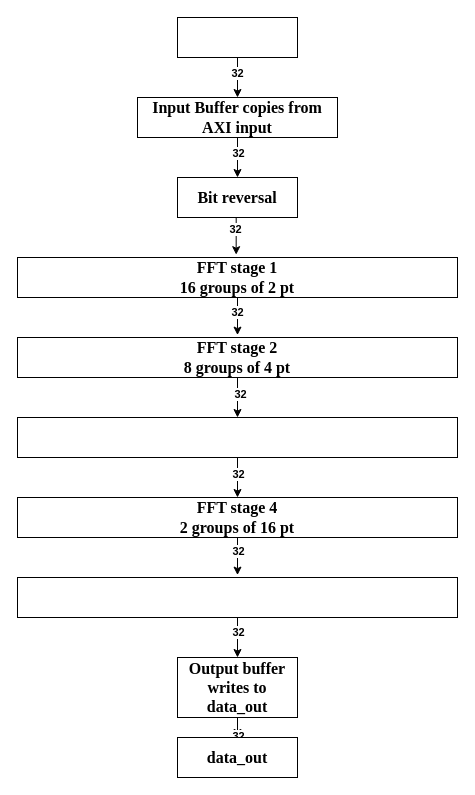
The diagram is 475 pixels wide and 795 high, and some of its shapes have lost their labels. The box of each missing label's shape, as (x1, y1, x2, y2) in pixels:
data_in: (176, 16, 298, 58)
FFT stage 3 4 groups of 8 pt: (16, 416, 458, 458)
FFT stage 5 1 group of 32 pt: (16, 576, 458, 618)
